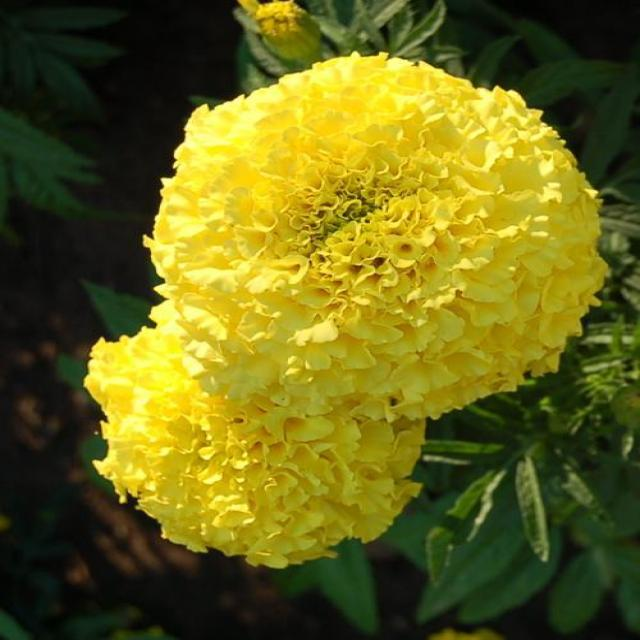marigold: (88, 37, 612, 584)
